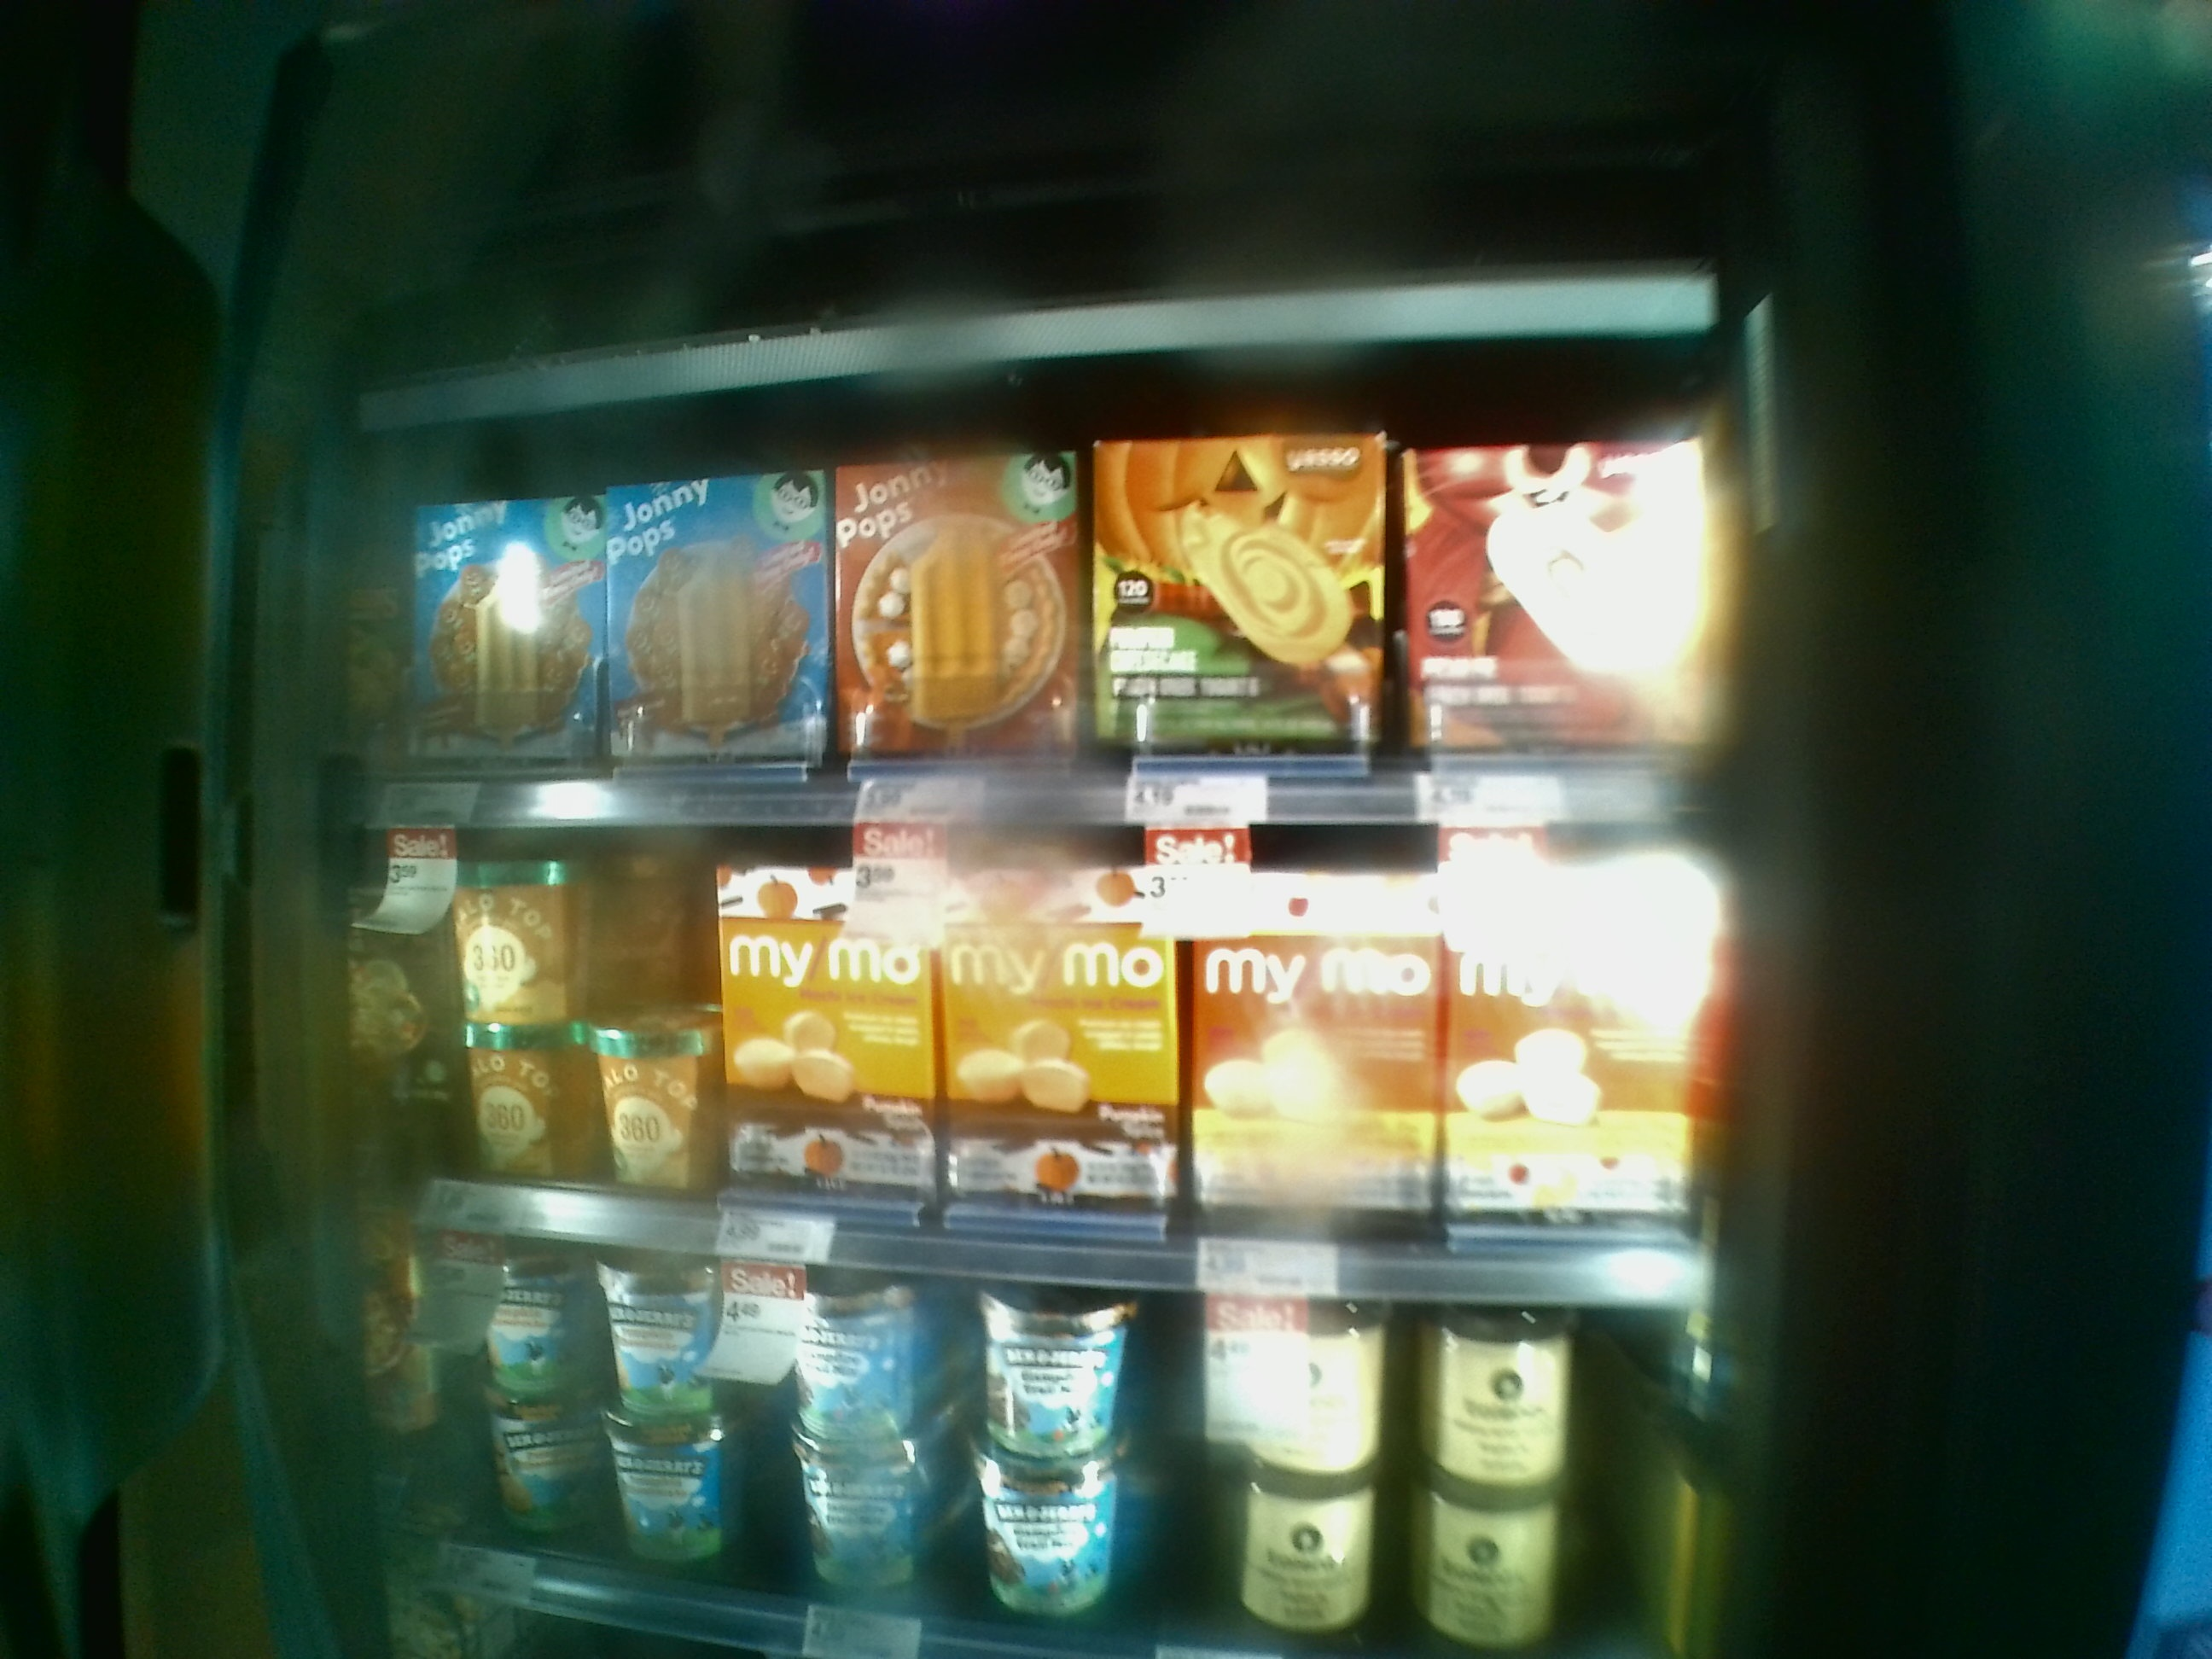shelf: (334, 793, 1716, 1298), (354, 427, 1731, 816)
